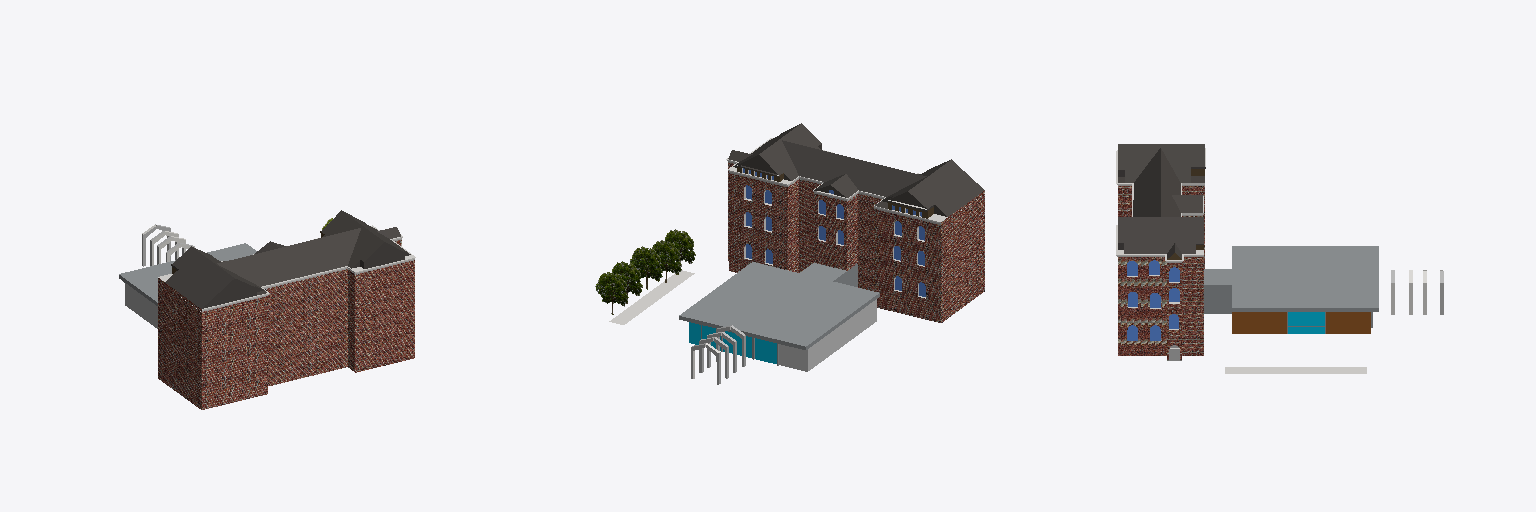
3 views of the same model, side by side, from view 1: azimuth 30°, elevation 25°; view 2: azimuth 150°, elevation 25°; view 3: azimuth 270°, elevation 25° (orthographic).
Visible parts, largest first — view 1: Mesh1 Model; view 2: Mesh1 Model, Mesh10 Model, Mesh15 Model, Mesh13 Model, Mesh12 Model, Mesh14 Model, Mesh11 Model; view 3: Mesh1 Model, Mesh10 Model.
Boxes of the visible parts, x1,y1,x2,y2 form: Mesh1 Model: [119, 210, 415, 409]; Mesh1 Model: [679, 123, 984, 371]; Mesh10 Model: [609, 270, 694, 324]; Mesh15 Model: [595, 272, 628, 314]; Mesh13 Model: [630, 246, 662, 289]; Mesh12 Model: [652, 240, 681, 282]; Mesh14 Model: [612, 261, 642, 303]; Mesh11 Model: [664, 229, 695, 263]; Mesh1 Model: [1116, 144, 1378, 360]; Mesh10 Model: [1225, 367, 1366, 373].
Size of the model in its own units: 60.88 by 26.62 by 63.64.
Materials: 12 (2 with a texture image).